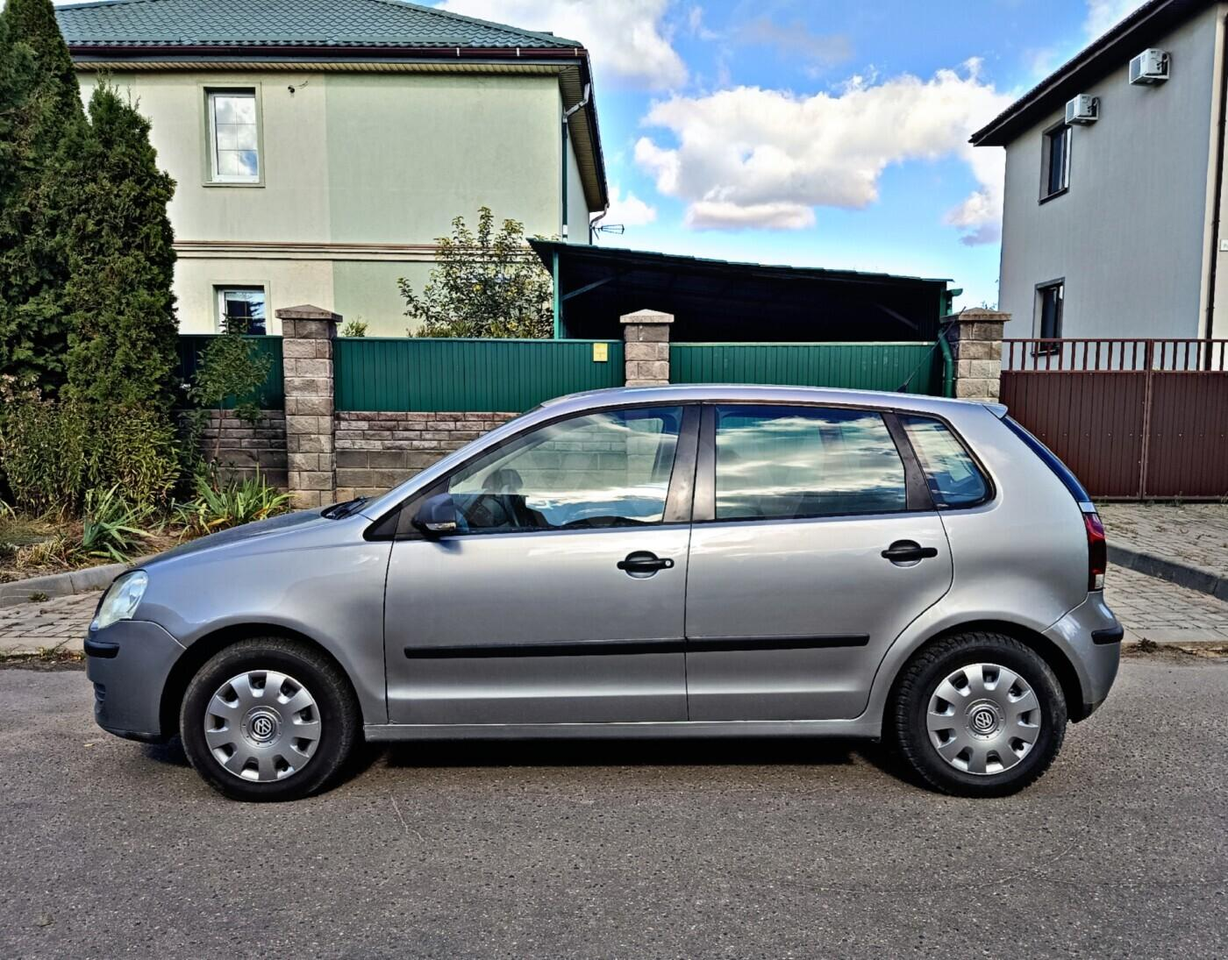Polo_2005-2009: (74, 381, 1132, 843)
